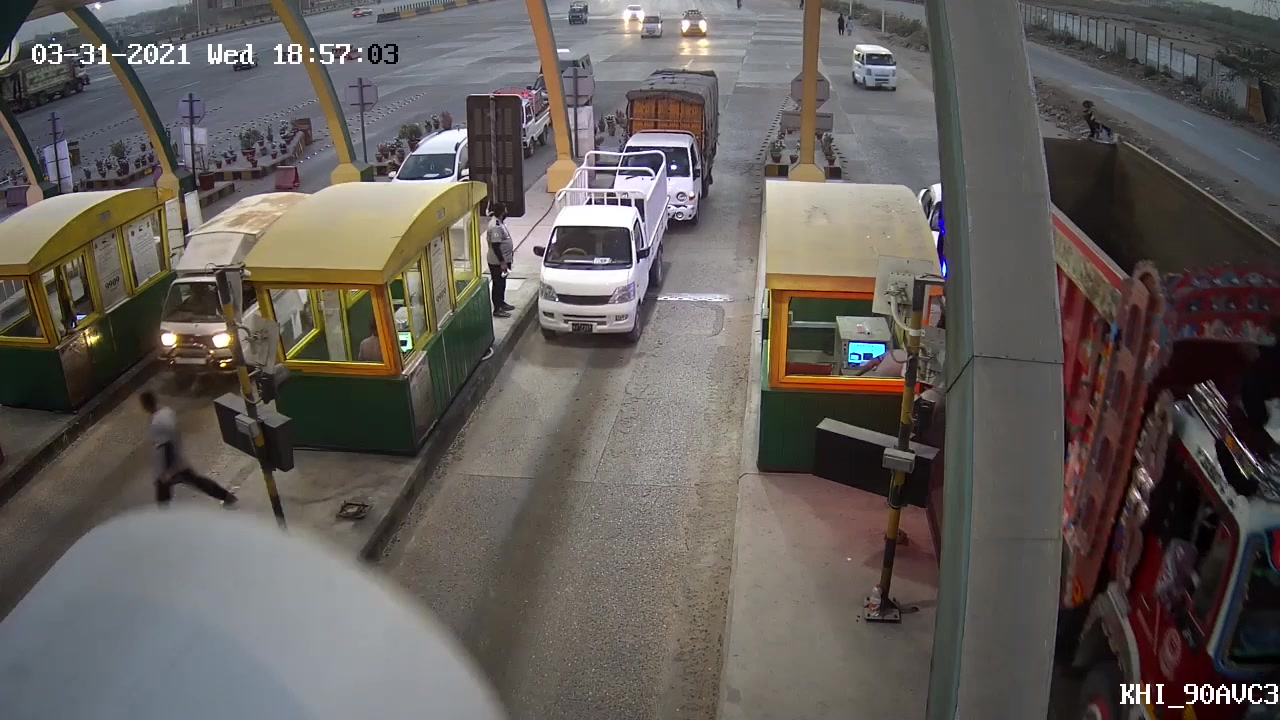F2: (520, 147, 673, 343)
